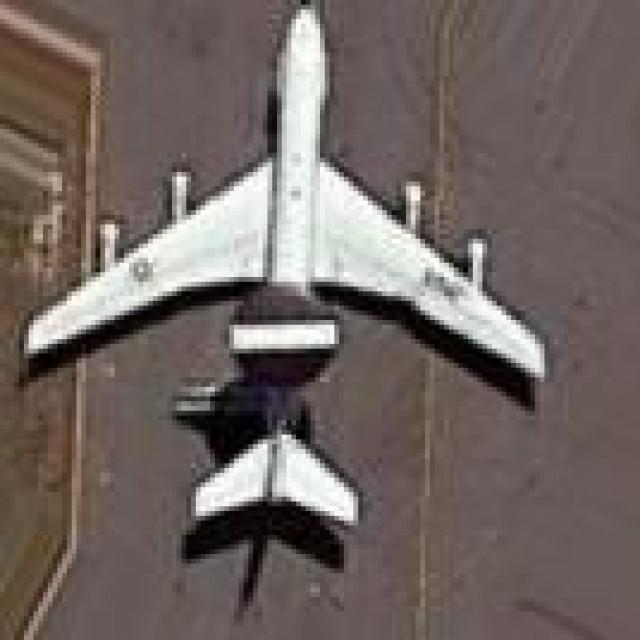E-3_TopDown: (12, 0, 556, 609)
